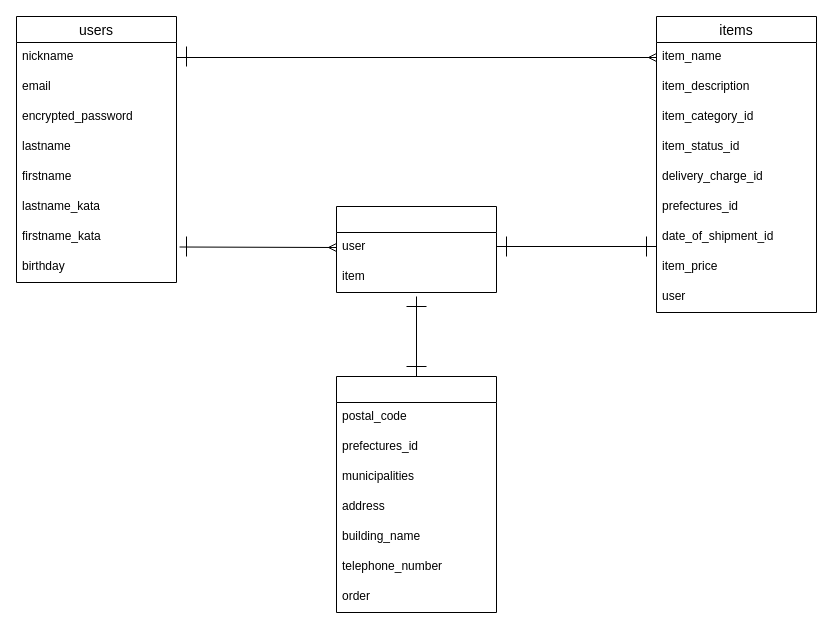
Some shapes in this 833 by 629 pixel diagram are drawn without their labels. Here are the shapes that lost their labels. From the top down, the box of each, then its label:
(336, 206, 496, 292): orders
(336, 376, 496, 612): shippings
